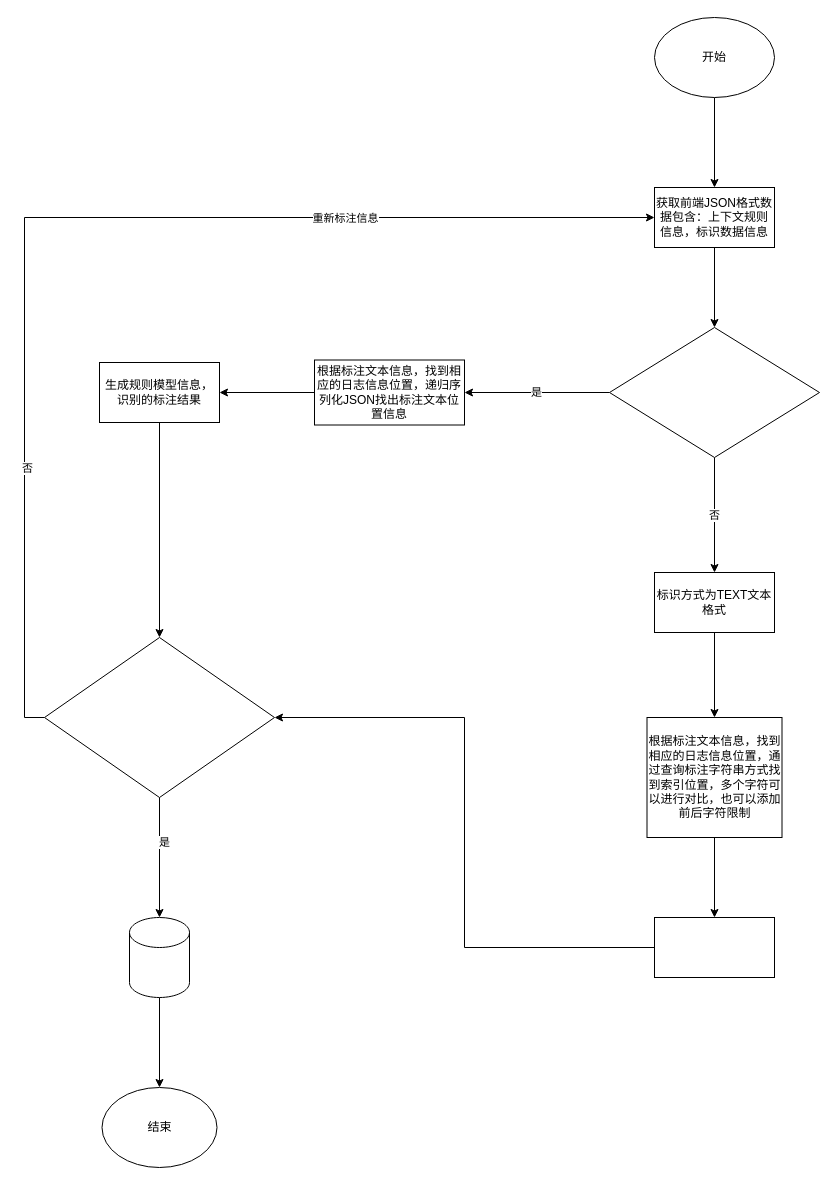
This 837x1185 diagram has some shape labels left out. The box of each missing label's shape, as (x1, y1, x2, y2) in pixels:
前端接收模型规则，返回的标注结果信息，人工观察结果是否正确: (44, 636, 274, 798)
持久化存储到PKL文件中: (128, 916, 190, 998)
生成规则模型信息、识别的标注结果: (654, 916, 774, 978)
获取标注信息内容，判断 是JSON文本格式: (608, 326, 820, 458)
